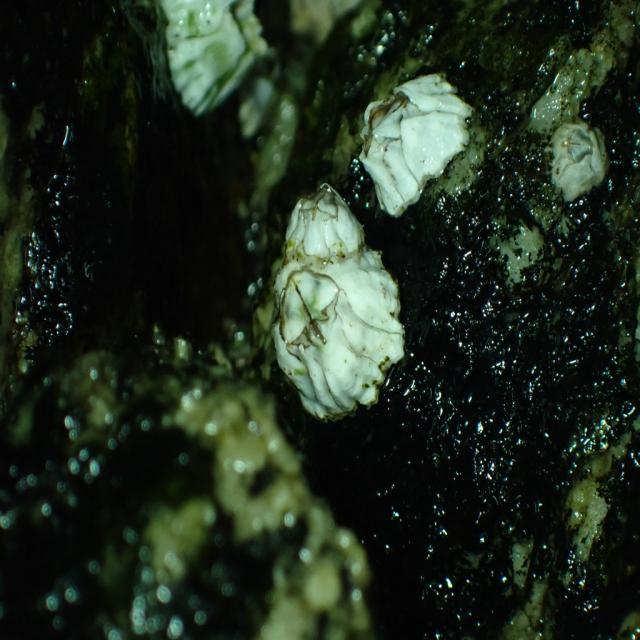barnacles: (273, 260, 408, 426), (357, 74, 476, 228), (542, 110, 614, 208), (278, 180, 357, 264)
